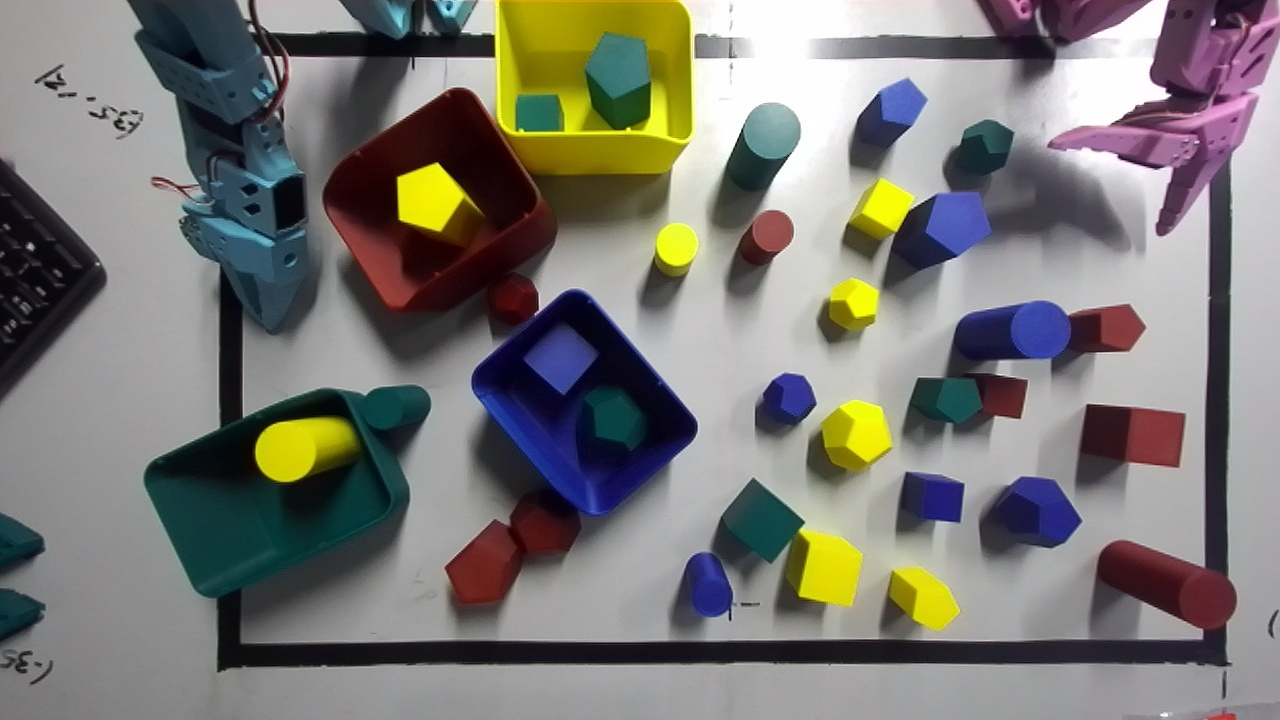bin: (143, 388, 408, 658), (471, 290, 697, 515), (324, 90, 553, 309), (496, 0, 692, 174)
cube: (721, 478, 804, 562), (1080, 404, 1185, 466), (785, 528, 862, 606), (523, 323, 598, 395), (847, 178, 913, 239), (900, 471, 964, 522), (965, 373, 1027, 418), (515, 94, 563, 131)
cylinder: (1097, 540, 1236, 630), (254, 416, 361, 482), (953, 301, 1070, 359), (726, 103, 800, 189), (684, 552, 732, 619), (360, 385, 430, 429), (738, 210, 793, 264), (654, 223, 697, 276)
dodecahedron: (990, 476, 1081, 547), (821, 400, 891, 470), (510, 489, 580, 553), (583, 386, 647, 454), (756, 373, 816, 425), (959, 119, 1013, 174), (828, 278, 879, 330), (487, 273, 538, 325)
hexagonal: (892, 192, 990, 268), (397, 163, 484, 246), (445, 520, 523, 603), (585, 32, 650, 129), (856, 77, 927, 147), (888, 567, 959, 629), (1067, 304, 1145, 352), (909, 377, 981, 423)
